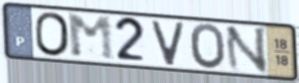2: (111, 16, 151, 65)
M: (65, 13, 118, 63)
N: (223, 25, 270, 76)
O: (188, 22, 228, 72), (33, 10, 72, 59)
V: (149, 19, 187, 68)
